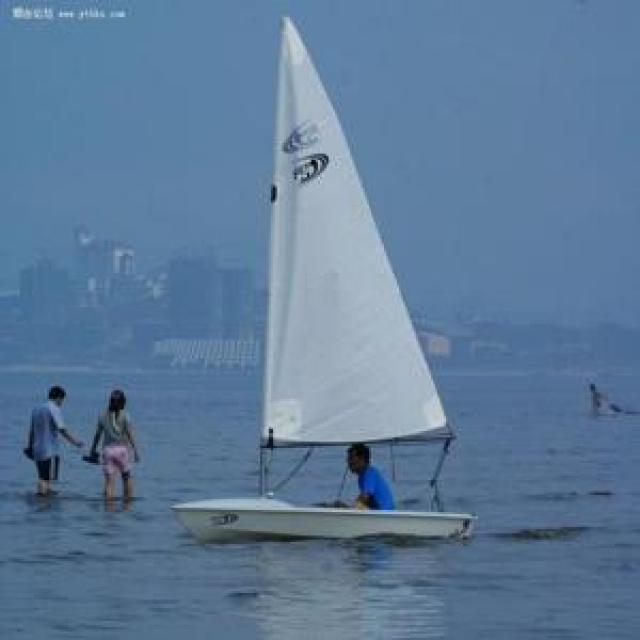sailboat: (177, 9, 478, 537)
